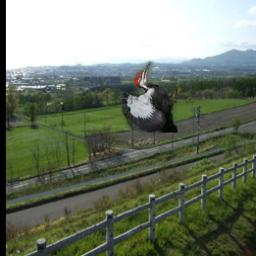Woodpecker: (123, 62, 179, 134)
